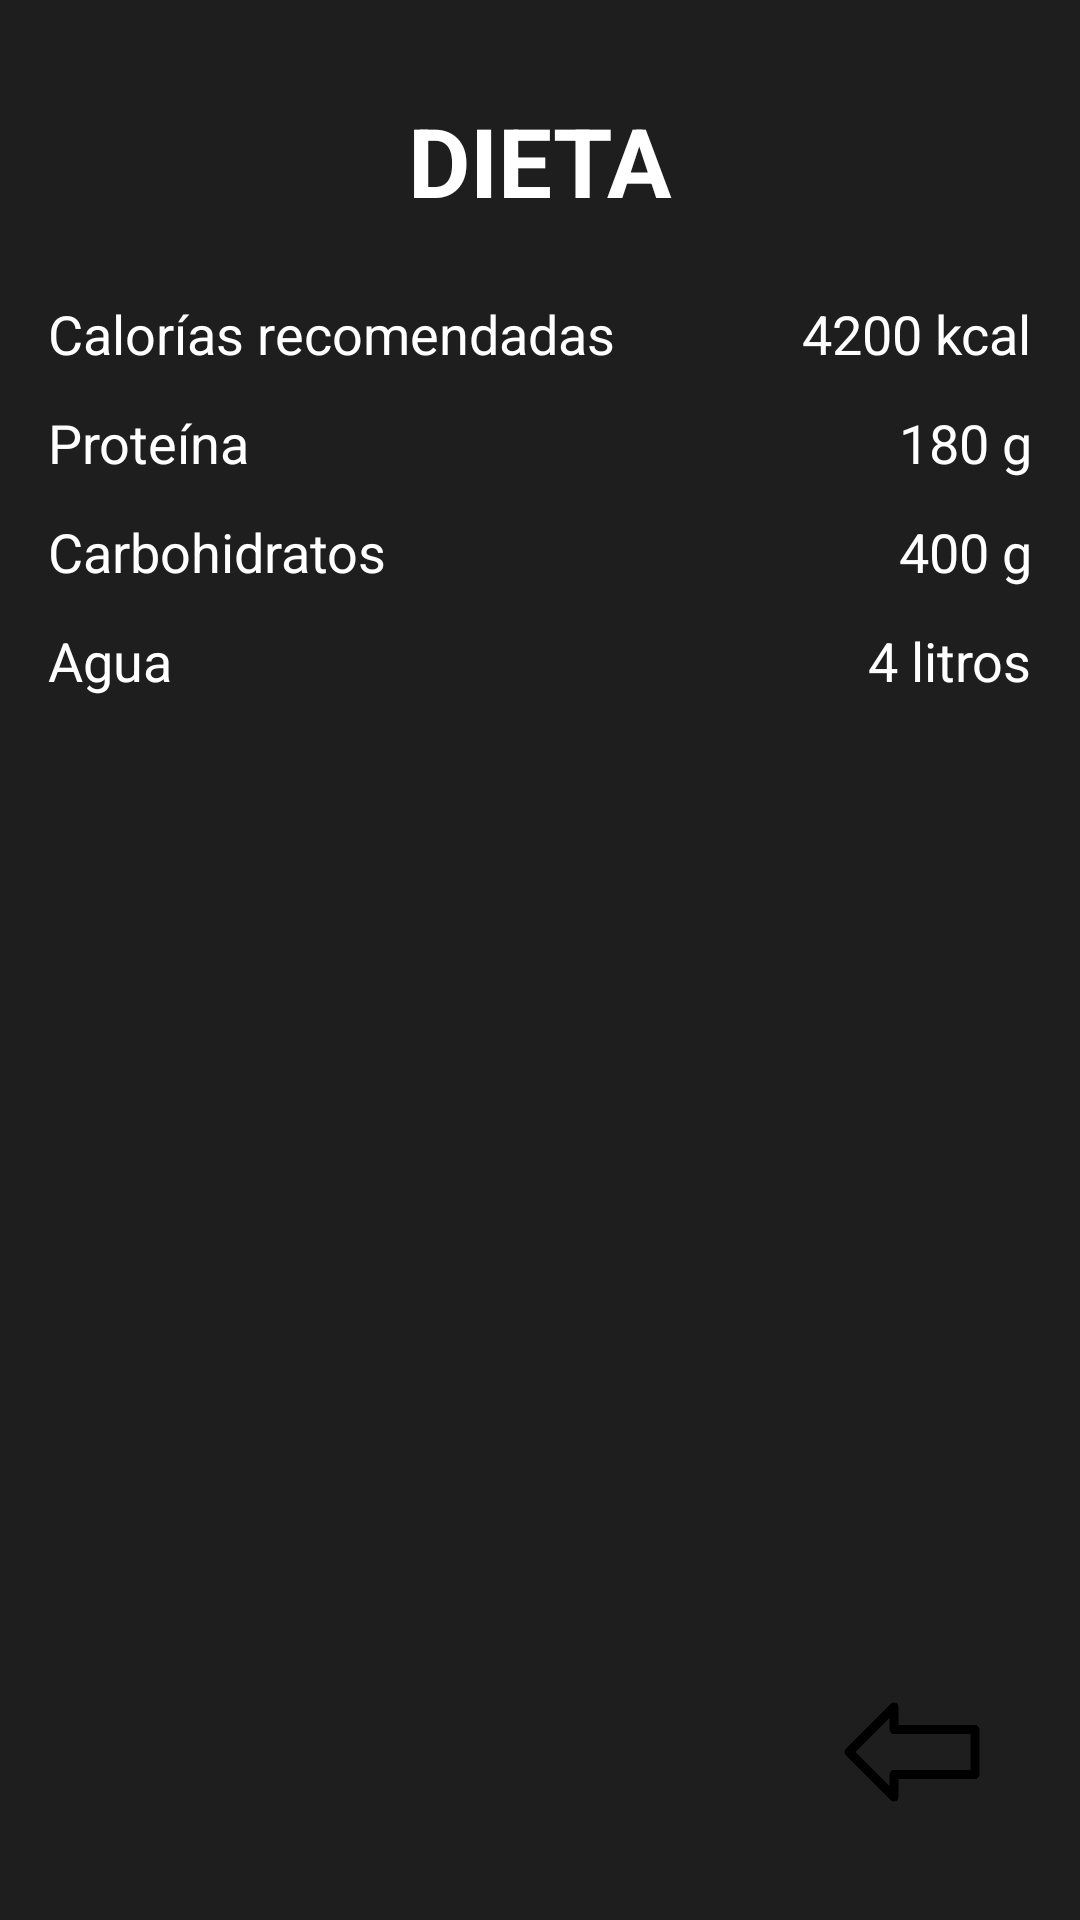

Icons on this 1080 × 1920 Android screen, each with its box as (x1, y1, x2, y2):
arrow back: (845, 1703, 979, 1801)
